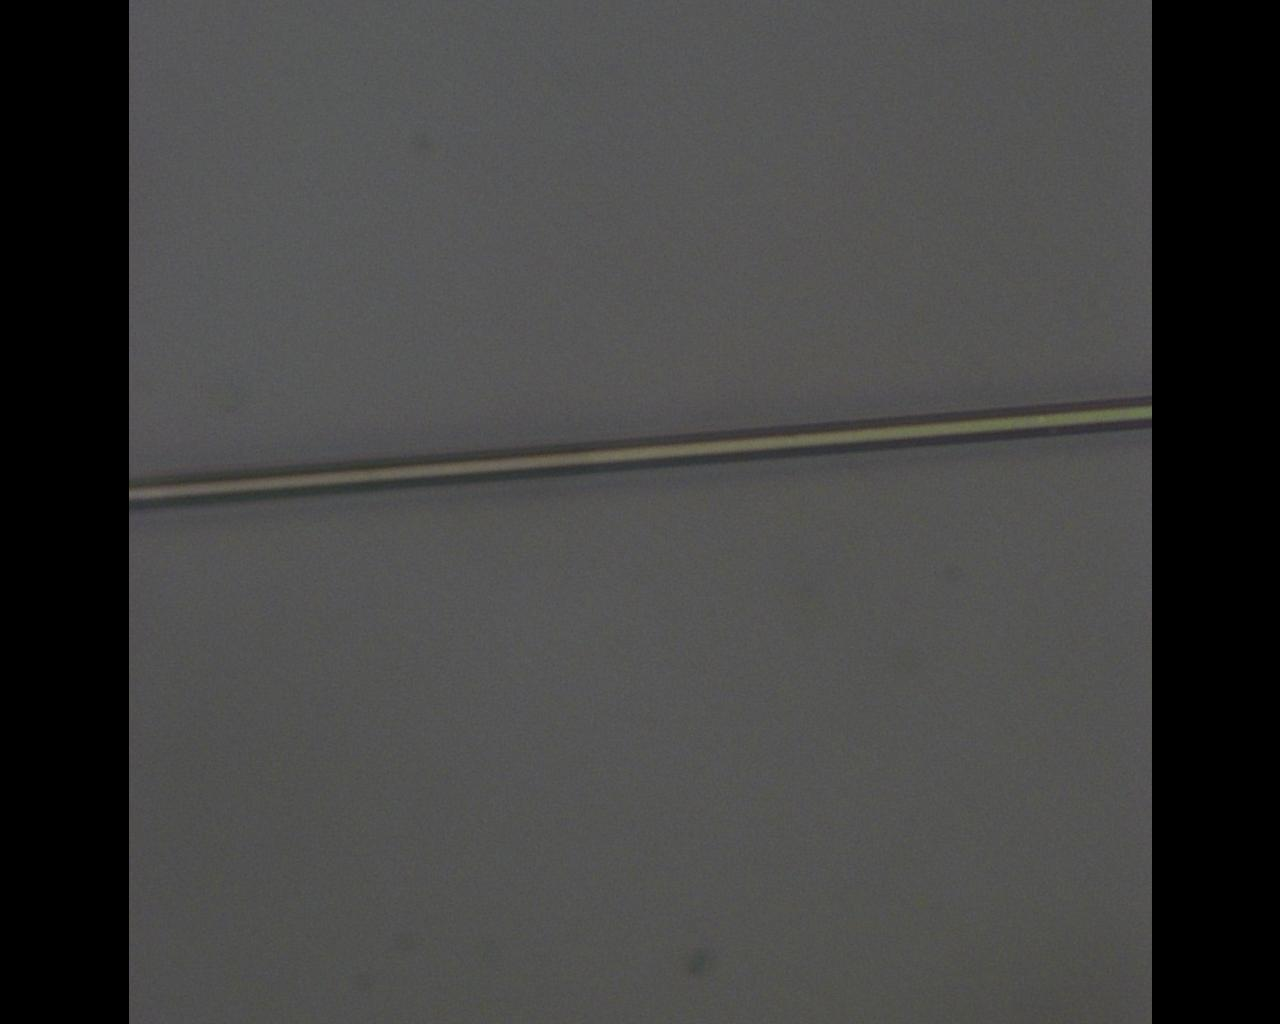fiber: (127, 394, 1151, 509)
